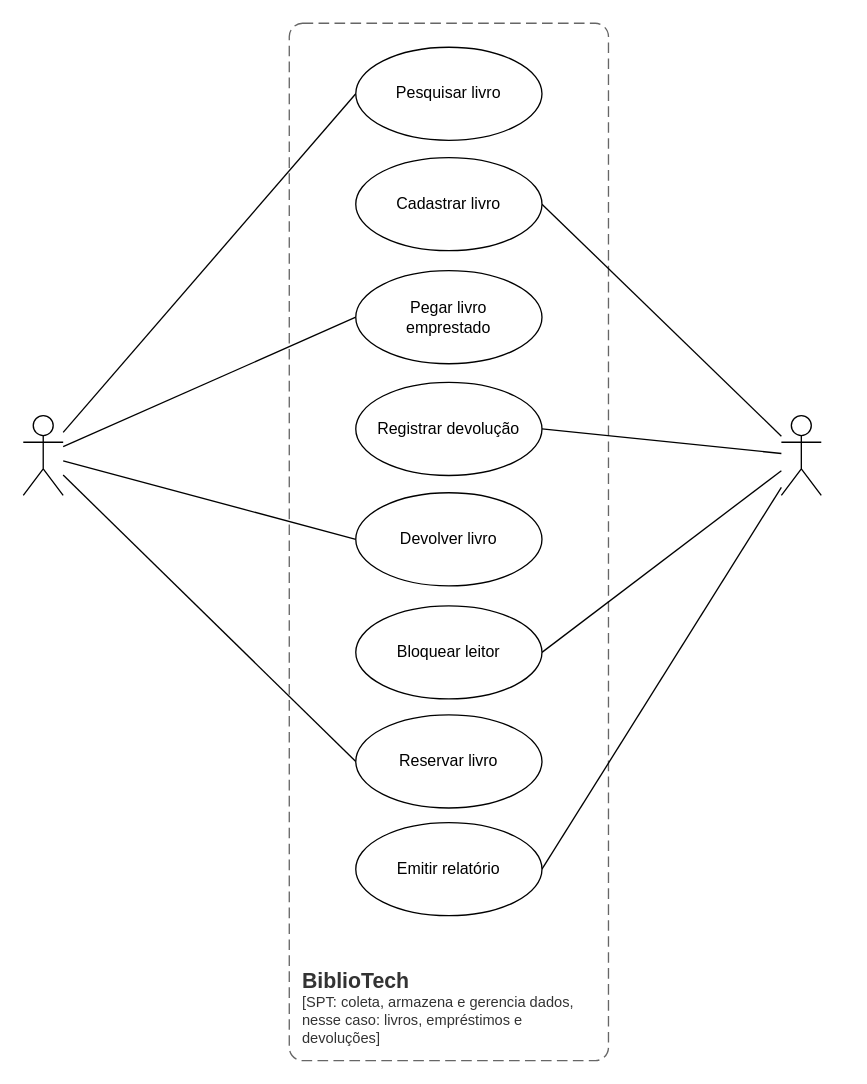
The diagram is 867 pixels wide and 1084 high, and some of its shapes have lost their labels. The centre of each missing label's shape, as x and y in pixels:
Bibliotecário: the point at 800,454
Leitor: the point at 42,454
